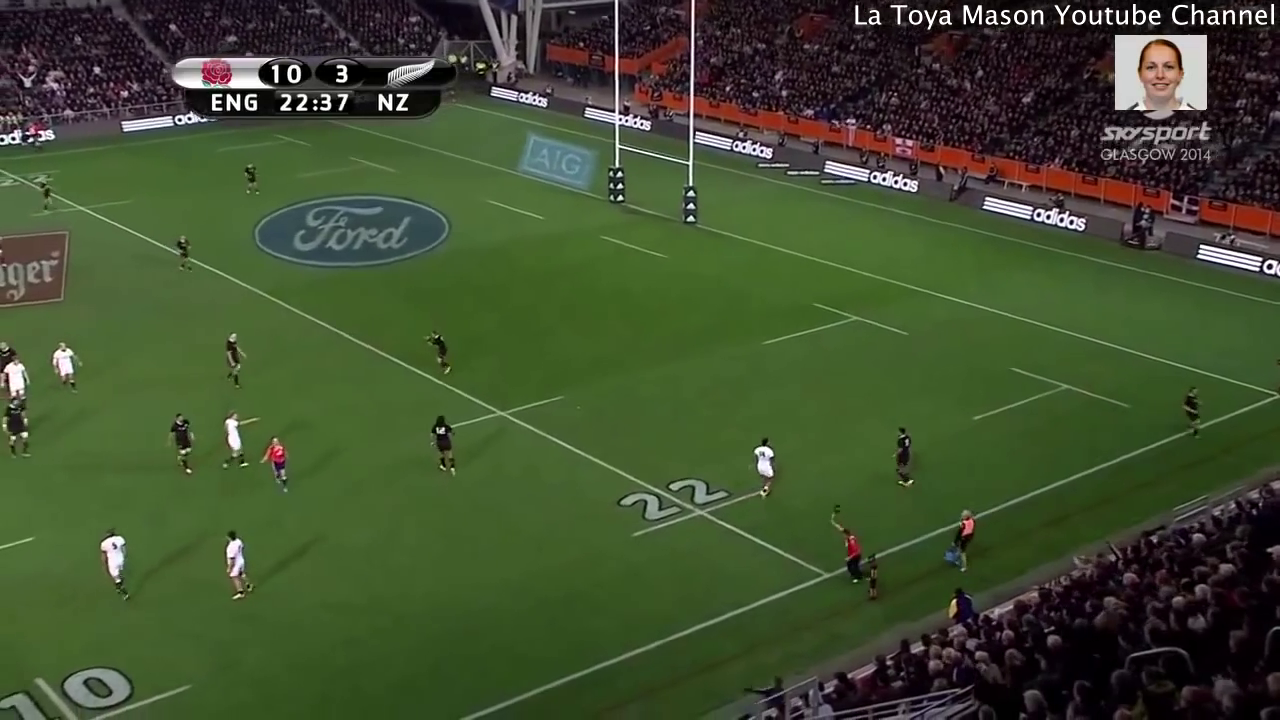10_metre: (1, 664, 200, 720)
player: (215, 520, 266, 613), (91, 525, 139, 608), (422, 402, 462, 487), (161, 406, 204, 484), (253, 429, 297, 504), (40, 332, 87, 400), (217, 406, 265, 472), (745, 428, 785, 505), (889, 417, 925, 494), (1, 393, 37, 469), (217, 326, 249, 396), (421, 325, 460, 382), (1177, 386, 1210, 448), (1, 357, 33, 413), (173, 227, 200, 279), (237, 154, 264, 204), (32, 176, 53, 213), (1, 336, 19, 369)
post: (597, 1, 702, 232)
